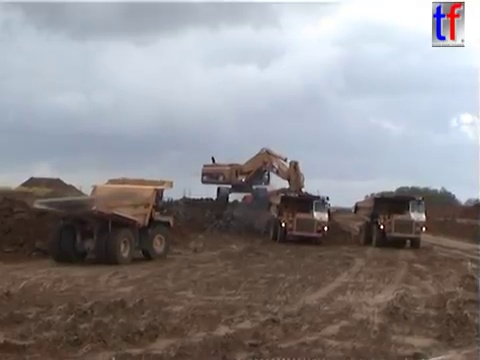excavator: (198, 146, 308, 219), (240, 184, 307, 213)
truck: (31, 176, 175, 265), (351, 191, 428, 249), (266, 191, 332, 245)
